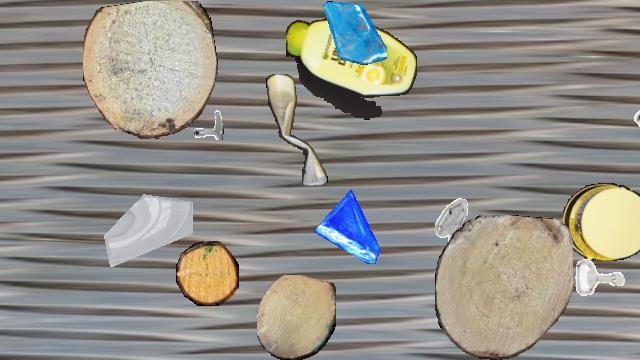glass: (100, 174, 192, 266), (314, 190, 388, 264), (323, 1, 387, 65)
metal: (569, 247, 631, 309), (421, 196, 481, 256), (182, 98, 224, 140), (631, 107, 640, 155)
plastic: (286, 18, 416, 120), (266, 74, 328, 186), (563, 183, 640, 261)
wood: (435, 215, 573, 359), (83, 1, 217, 139), (257, 275, 335, 359), (176, 241, 238, 305)
